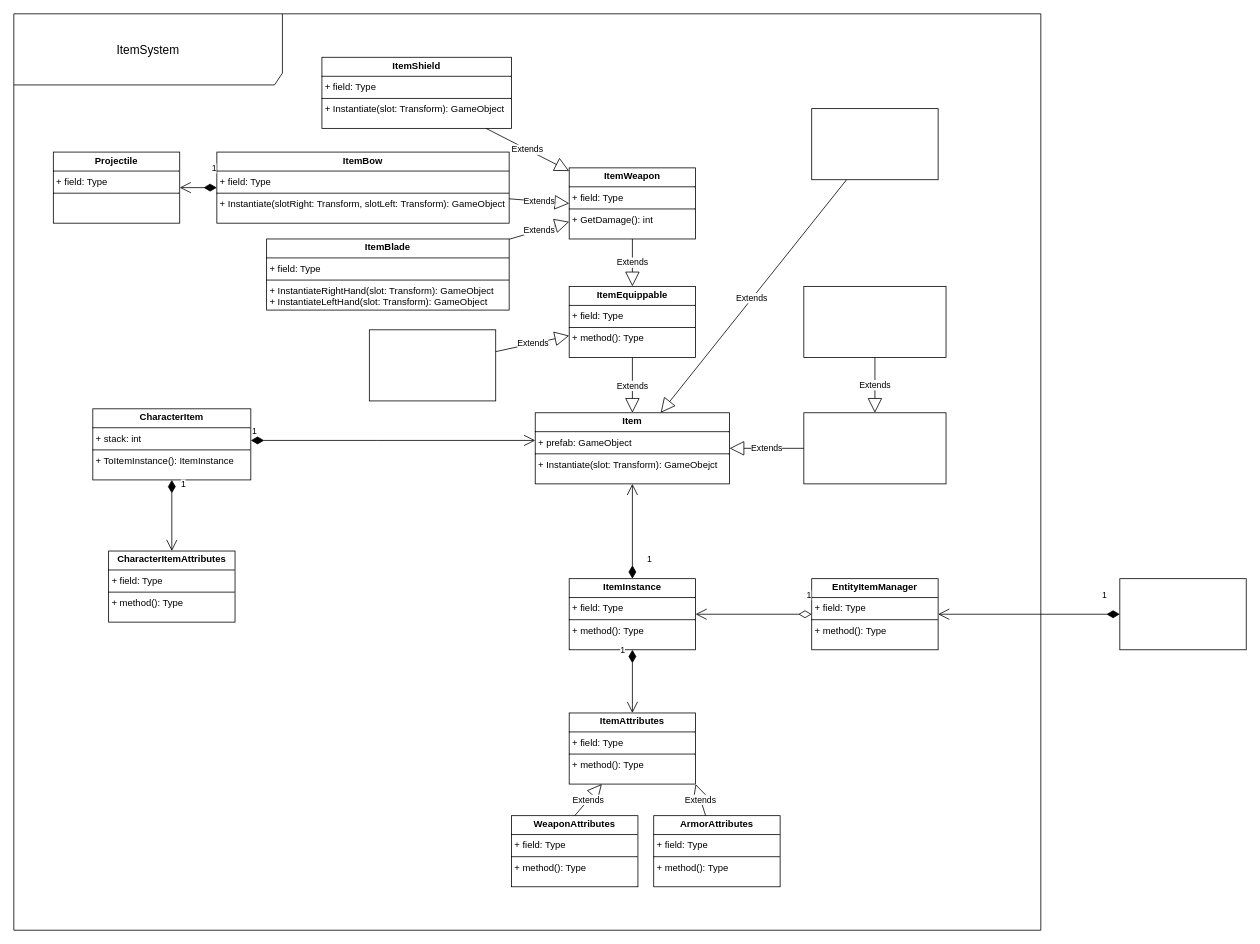
Some shapes in this 1260 by 944 pixel diagram are drawn without their labels. Each missing label, with the centre of its shape:
"Entity + field: Type + method(): Type" goes at point 1182,614.
"ItemArmor + field: Type" goes at point 432,365.
"ItemConsumable + field: Type + Consume(entity: Entity): void" goes at point 874,448.
"ItemPotion + field: Type + Consume(entity: Entity): void" goes at point 874,321.
"ItemSkill + field: Type + method(): Type" goes at point 874,144.
